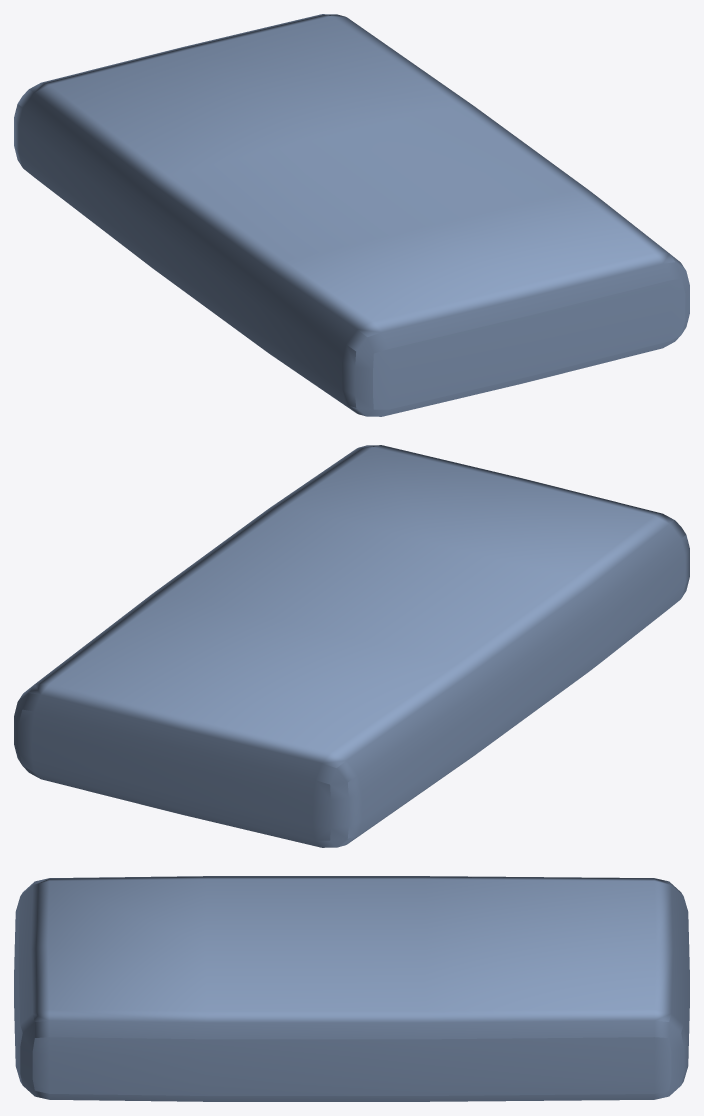
File: Matress.fbx
3 renders of one model, top to bottom at view 1: azimuth 30°, elevation 25°; view 2: azimuth 150°, elevation 25°; view 3: azimuth 270°, elevation 25°, orthographic. The views are drawn at different scales.
Parts seen in each view (by area): view 1: Mattress; view 2: Mattress; view 3: Mattress.
Part boxes in pixels (x1,y1,x2,y2): Mattress: [14, 14, 689, 416]; Mattress: [14, 445, 689, 847]; Mattress: [14, 876, 689, 1101].
Size of the model in its own units: 7.22 by 1.83 by 12.79.
